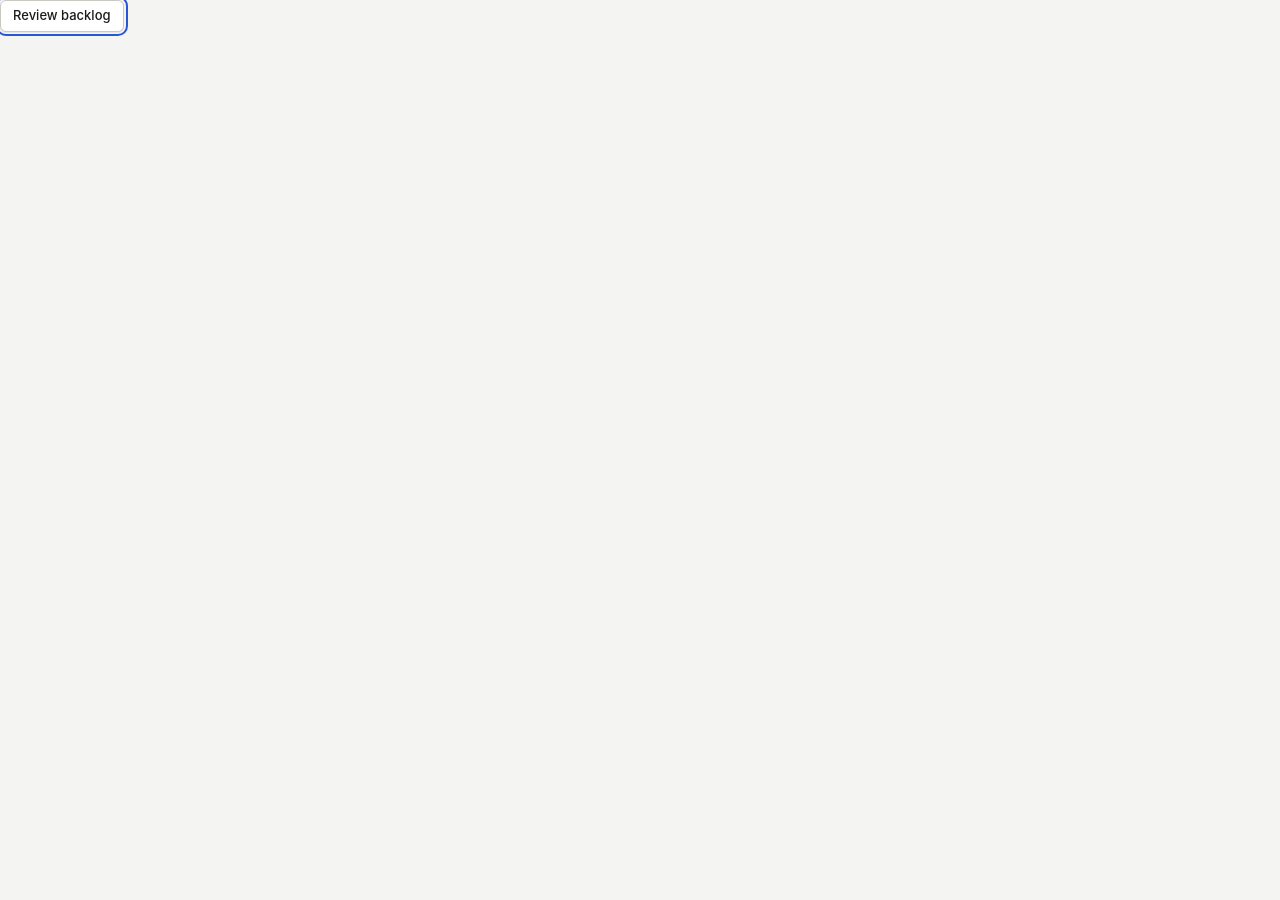
Test: empty and ineligible previews explain why and never queue on open, refresh or keyboard cancel
This screenshot has width=1280, height=900.
Press Enter
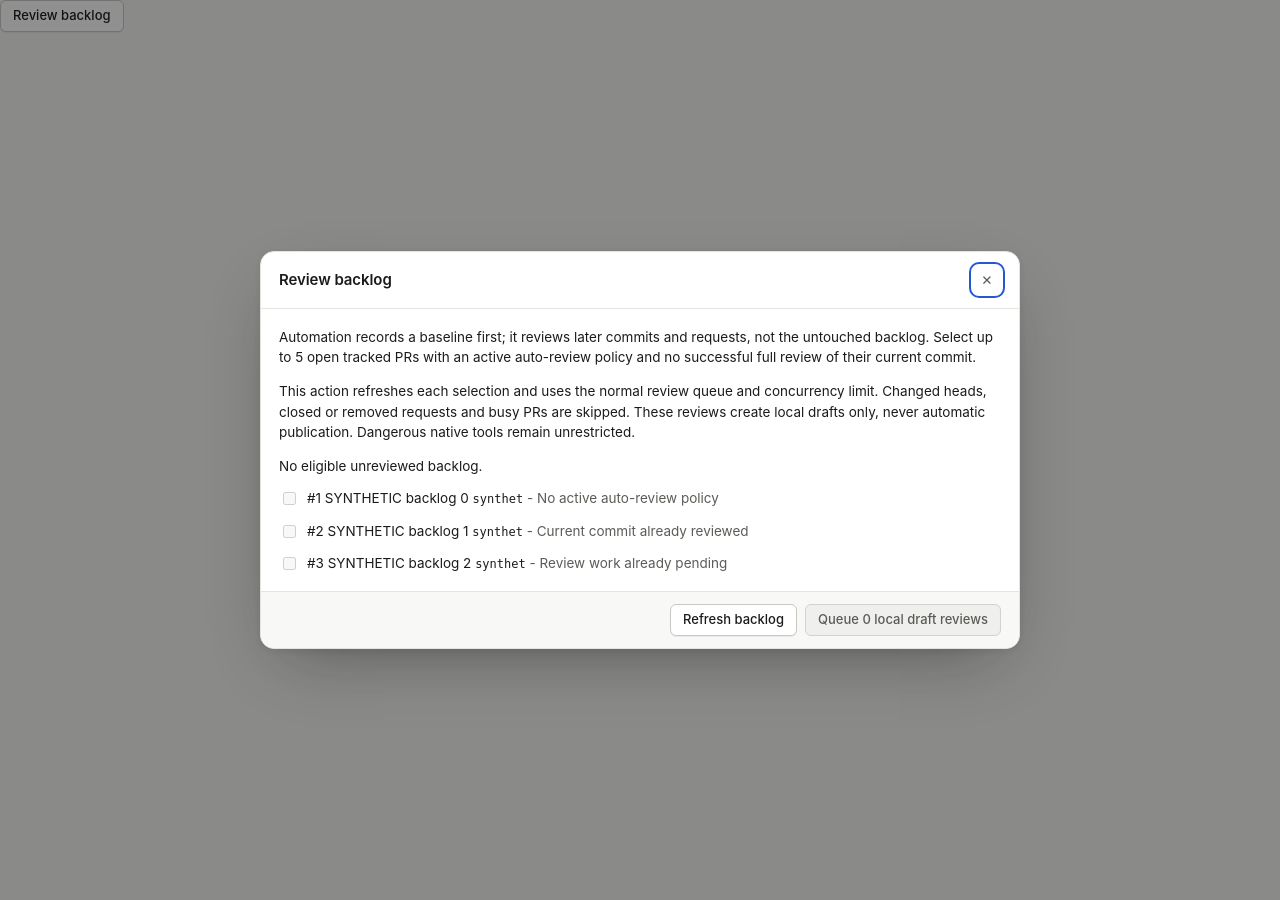
Check: the text "No eligible unreviewed backlog." is shown, box [279, 458, 482, 474]
Check: the text "- No active auto-review policy" is shown, box [523, 490, 719, 506]
Check: the text "- Current commit already reviewed" is shown, box [523, 523, 749, 539]
Click the button "Refresh backlog": (734, 620) [670, 604, 797, 636]
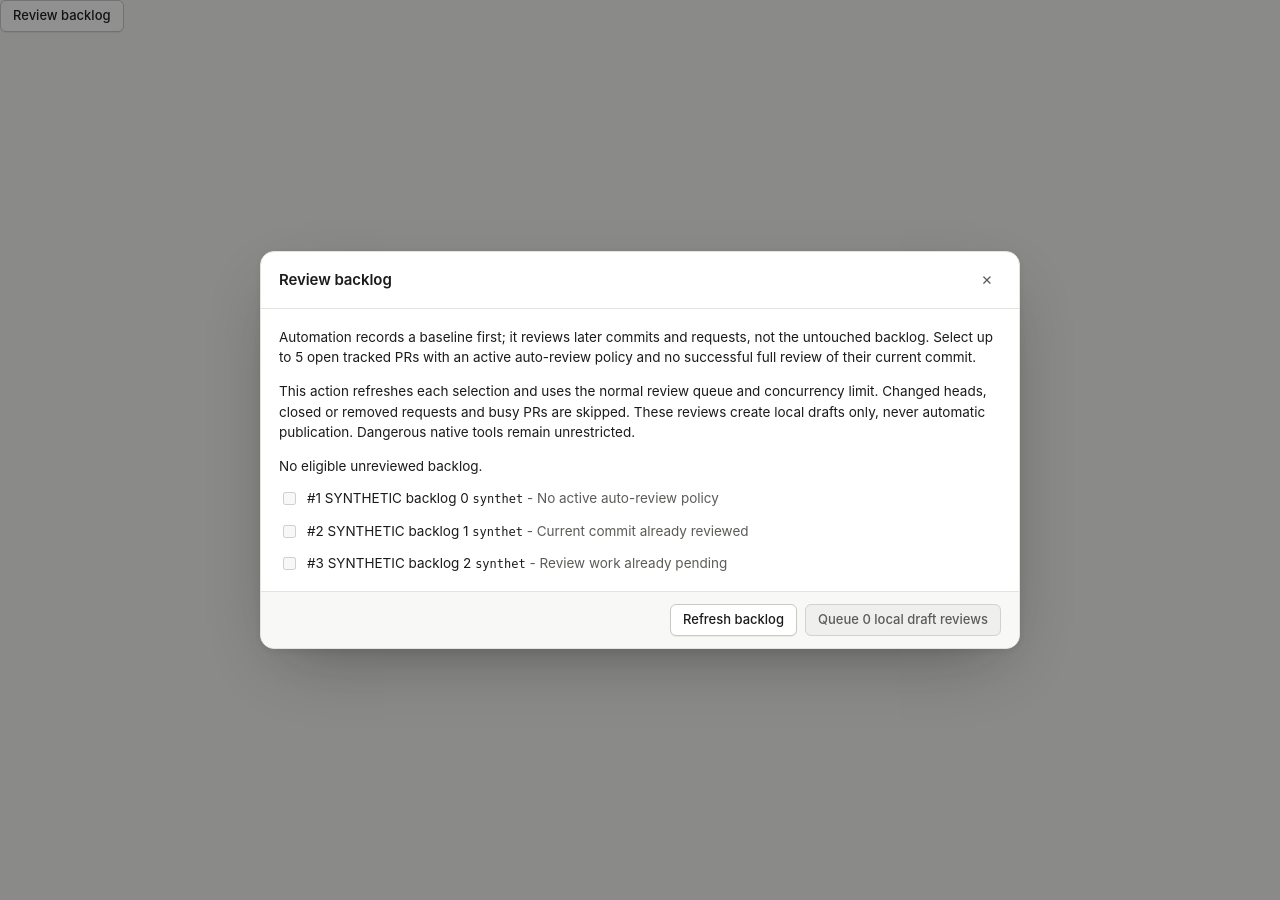
Check: the text "No eligible unreviewed backlog." is shown, box [279, 458, 482, 474]
Press Escape
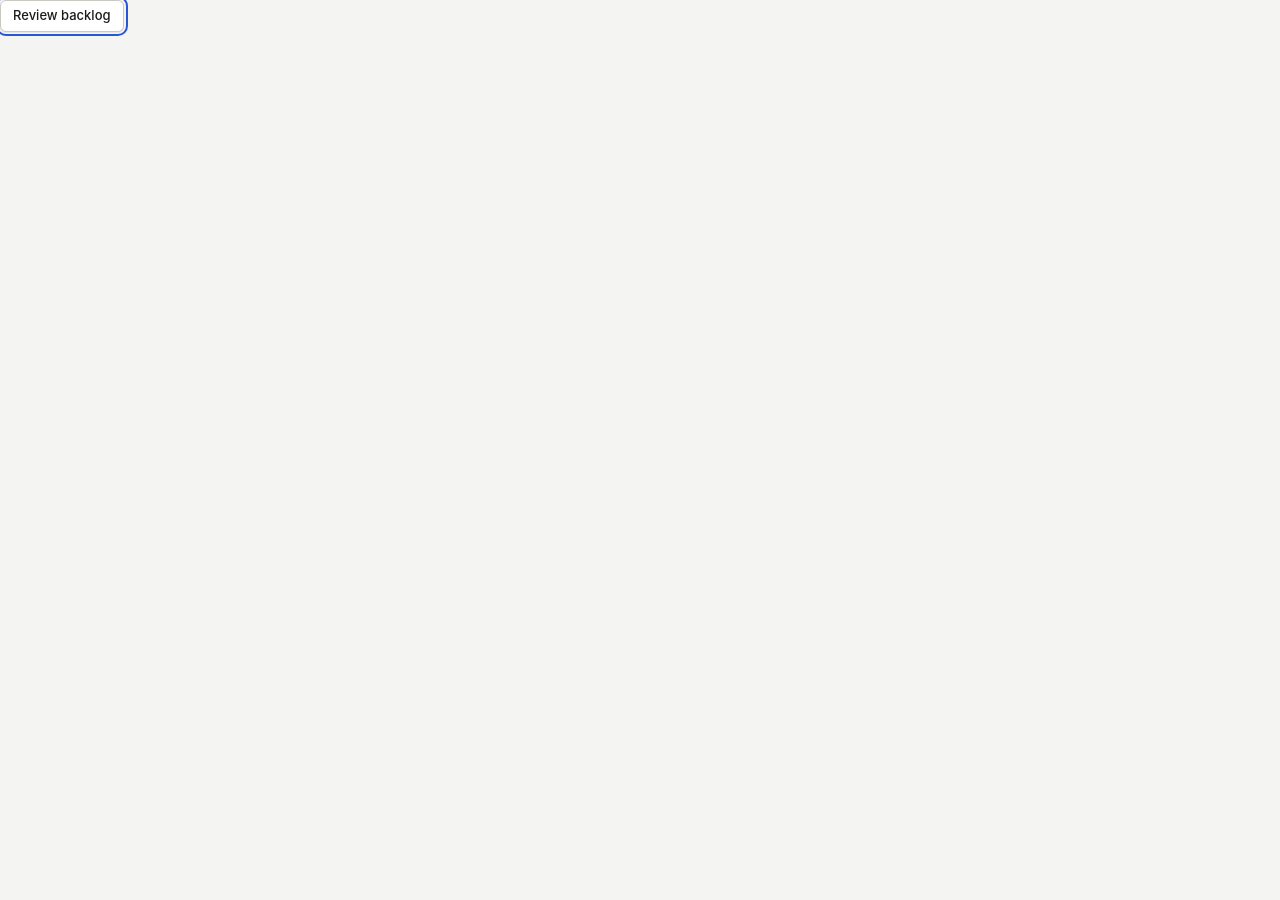
Check: the dialog is gone
